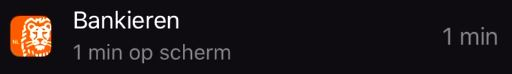name: (69, 3, 186, 34)
time: (69, 39, 126, 67)
